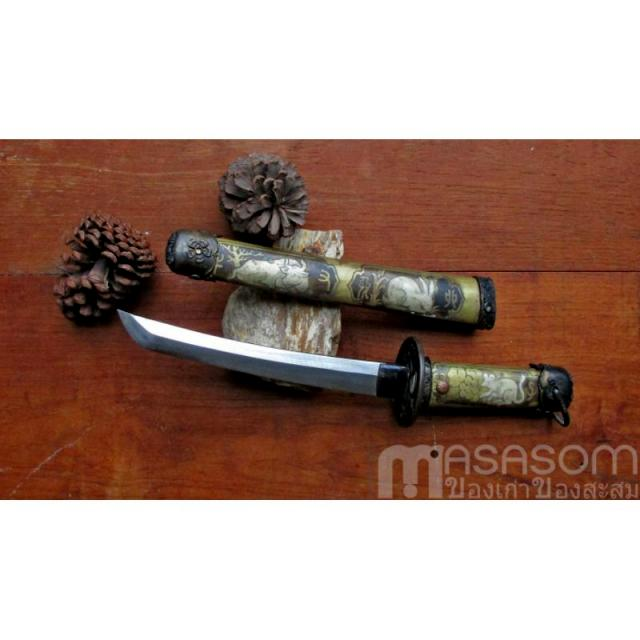short sword: (103, 215, 589, 438)
